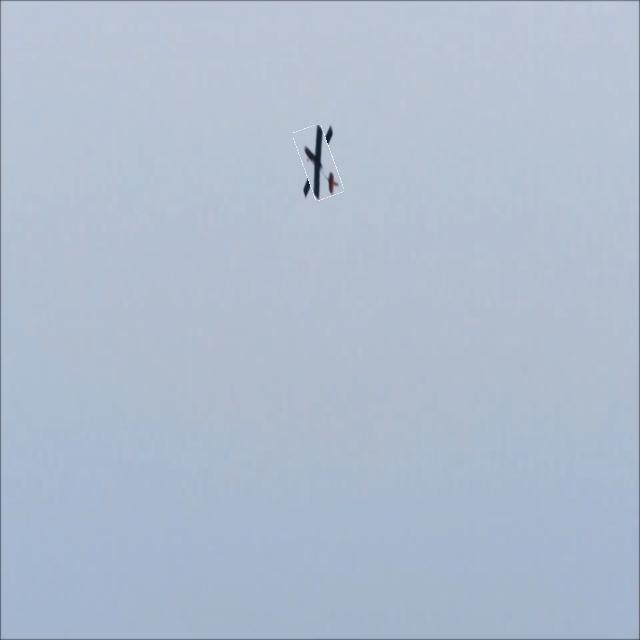Airplane: (290, 120, 344, 202)
